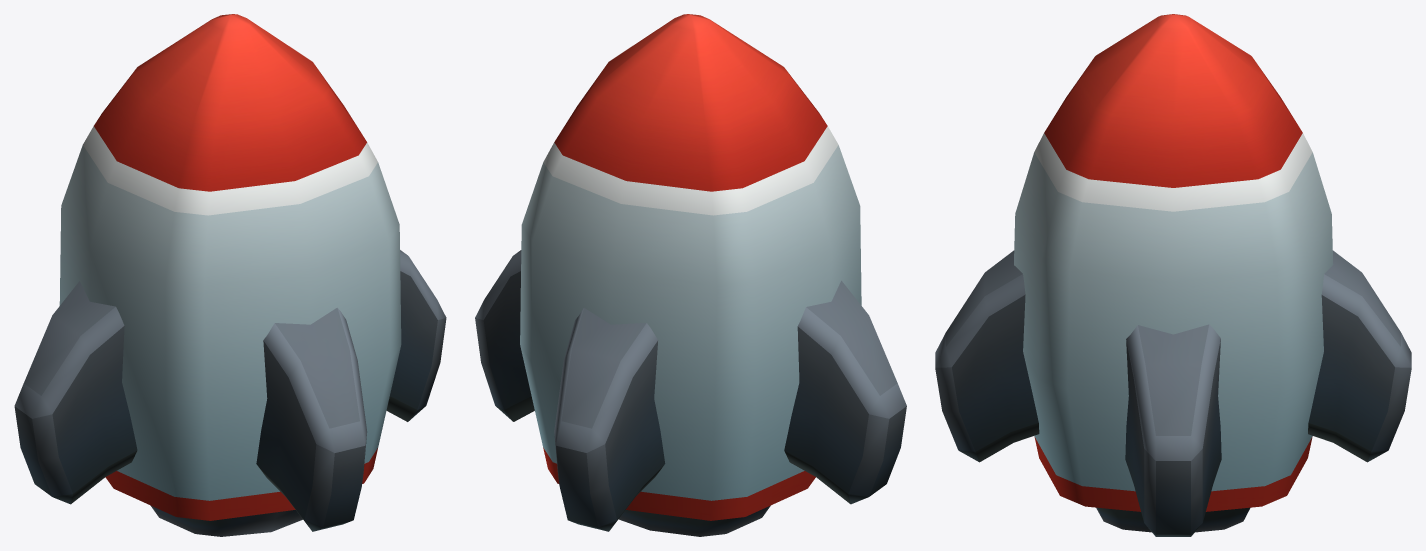
Rendered from rocket_fat.fbx.
3 renders of one model, left to right at view 1: azimuth 30°, elevation 25°; view 2: azimuth 150°, elevation 25°; view 3: azimuth 270°, elevation 25°, orthographic.
Parts seen in each view (by area): view 1: rocket_fat; view 2: rocket_fat; view 3: rocket_fat.
Boxes of the visible parts, left/top/right/bottom form: rocket_fat: left=14, top=14, right=446, bottom=536; rocket_fat: left=475, top=14, right=906, bottom=536; rocket_fat: left=935, top=14, right=1411, bottom=536.
Bounding box in the file's own units: 116 × 131 × 116.
